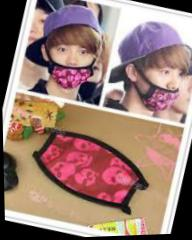NONE: (15, 11, 59, 60)
WRONG: (134, 57, 189, 118), (43, 39, 101, 96)
